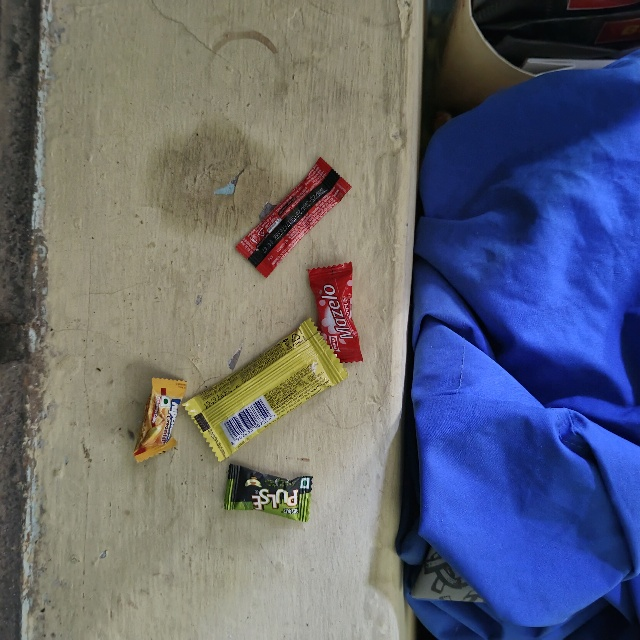Alpenlibe Creamfills: (140, 377, 180, 462)
Mazelo: (308, 263, 359, 359)
Nescafe Coffee: (316, 154, 366, 279)
Orbit: (176, 397, 336, 475)
Pulse: (229, 463, 317, 512)
